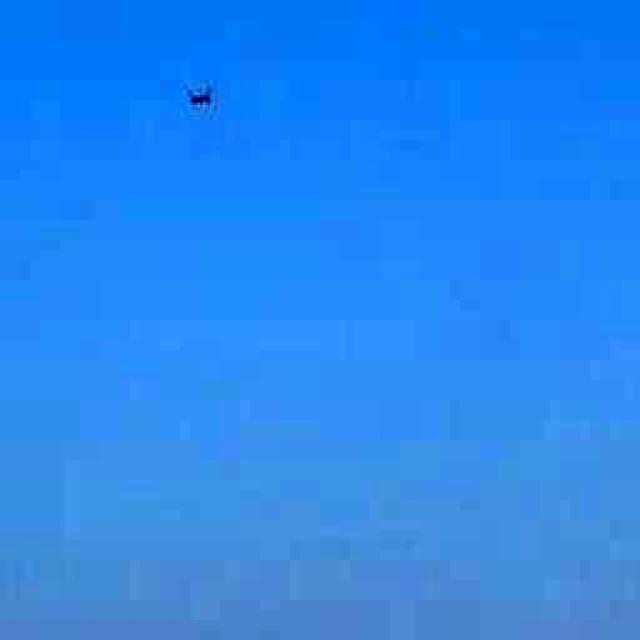bird: (171, 68, 234, 122)
